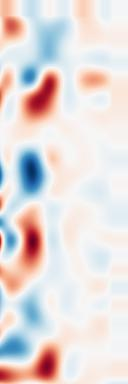filament: (18, 65, 68, 131), (15, 199, 54, 276), (29, 334, 69, 383)
